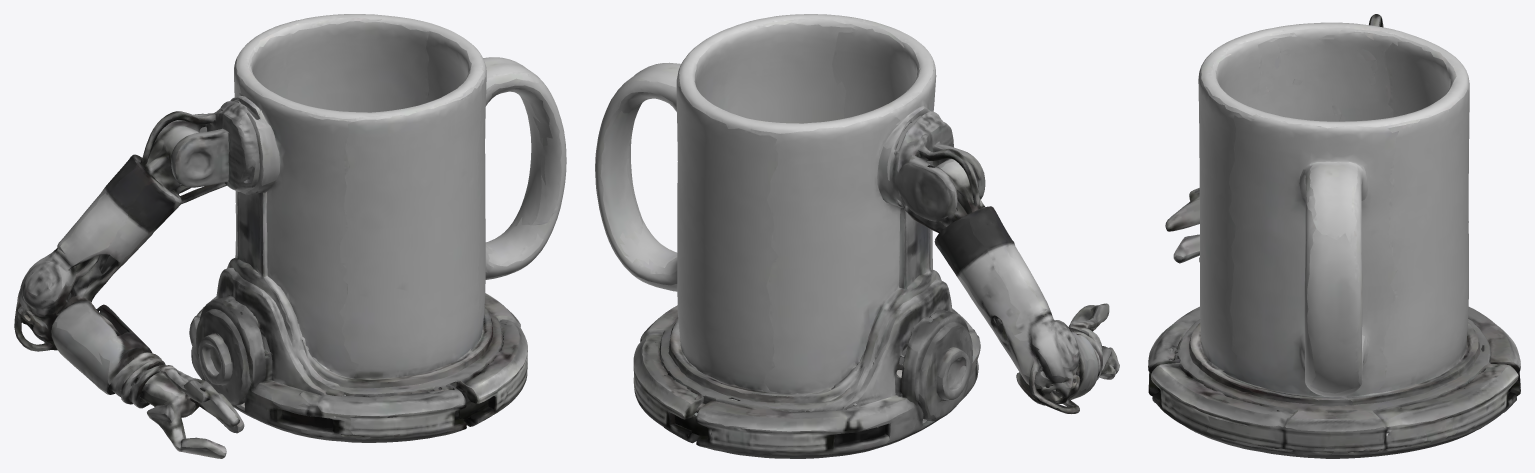
3 renders of one model, left to right at view 1: azimuth 30°, elevation 25°; view 2: azimuth 150°, elevation 25°; view 3: azimuth 270°, elevation 25°, orthographic. The views are drawn at different scales.
Parts seen in each view (by area): view 1: geometry_0; view 2: geometry_0; view 3: geometry_0.
Part boxes in pixels (<box>): geometry_0: <box>14,14,566,458</box>; geometry_0: <box>595,14,1119,458</box>; geometry_0: <box>1148,14,1520,458</box>.
Bounding box in the file's own units: 0.22 × 0.1313 × 0.1381.
1 material, 1 textured.
